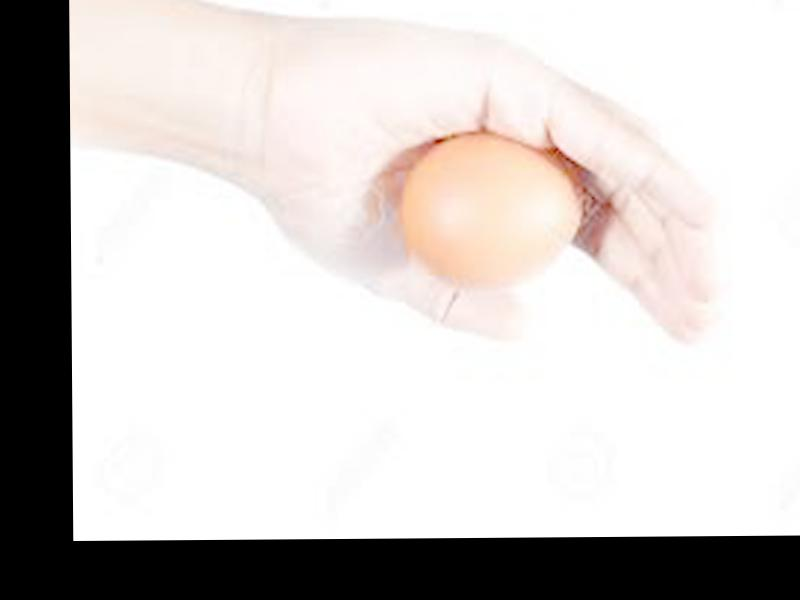Eggs: (401, 136, 579, 288)
